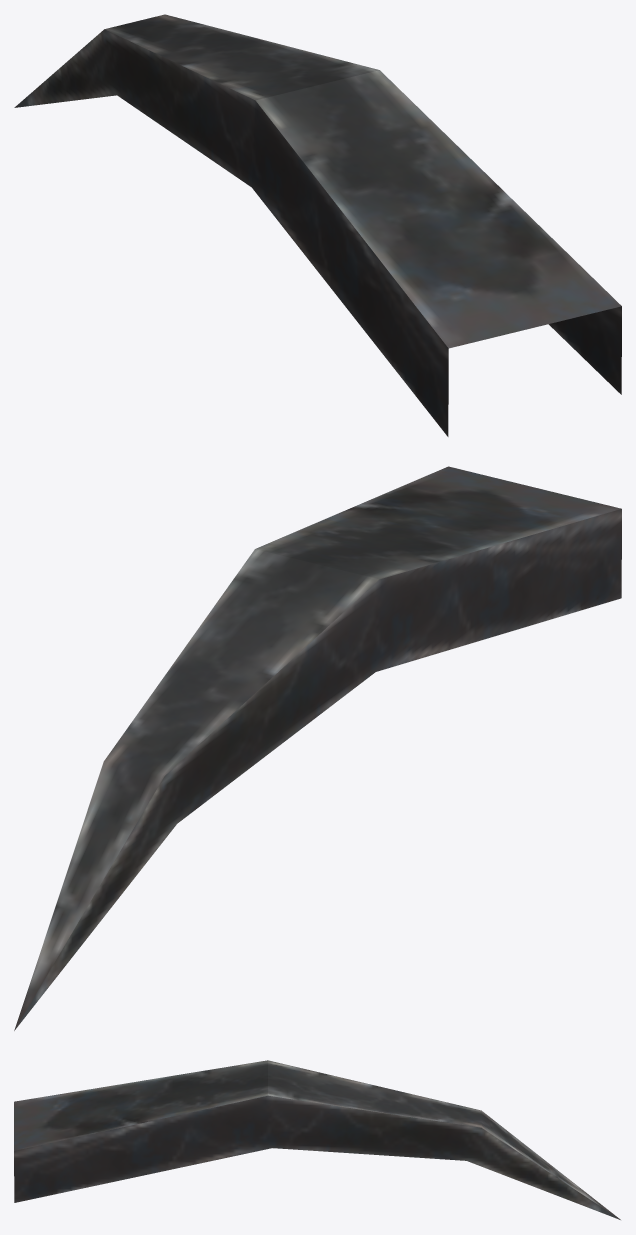
File: A_tiezhui04.fbx
3 renders of one model, top to bottom at view 1: azimuth 30°, elevation 25°; view 2: azimuth 150°, elevation 25°; view 3: azimuth 270°, elevation 25°, orthographic. The views are drawn at different scales.
Visible parts, largest first — view 1: A_tiezhui04; view 2: A_tiezhui04; view 3: A_tiezhui04.
Boxes of the visible parts, bbox=[...] form: A_tiezhui04: bbox=[14, 14, 621, 436]; A_tiezhui04: bbox=[14, 466, 621, 1030]; A_tiezhui04: bbox=[14, 1060, 620, 1219].
Bounding box in the file's own units: 26.86 × 36.24 × 140.
